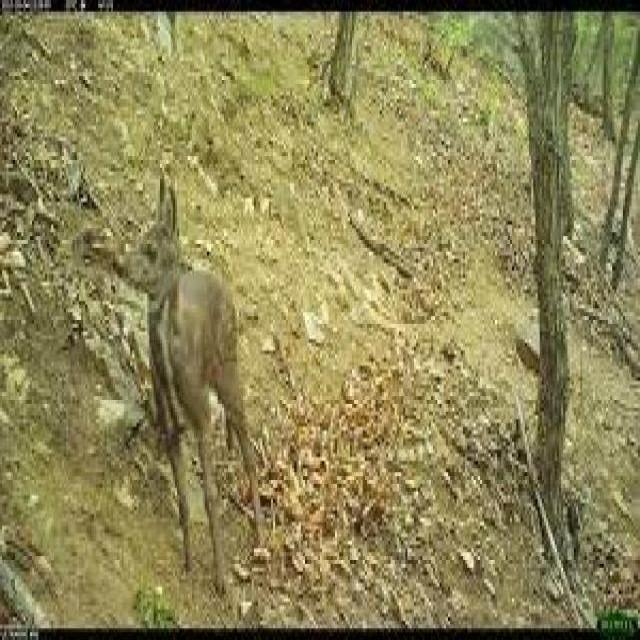deer: (111, 163, 292, 601)
